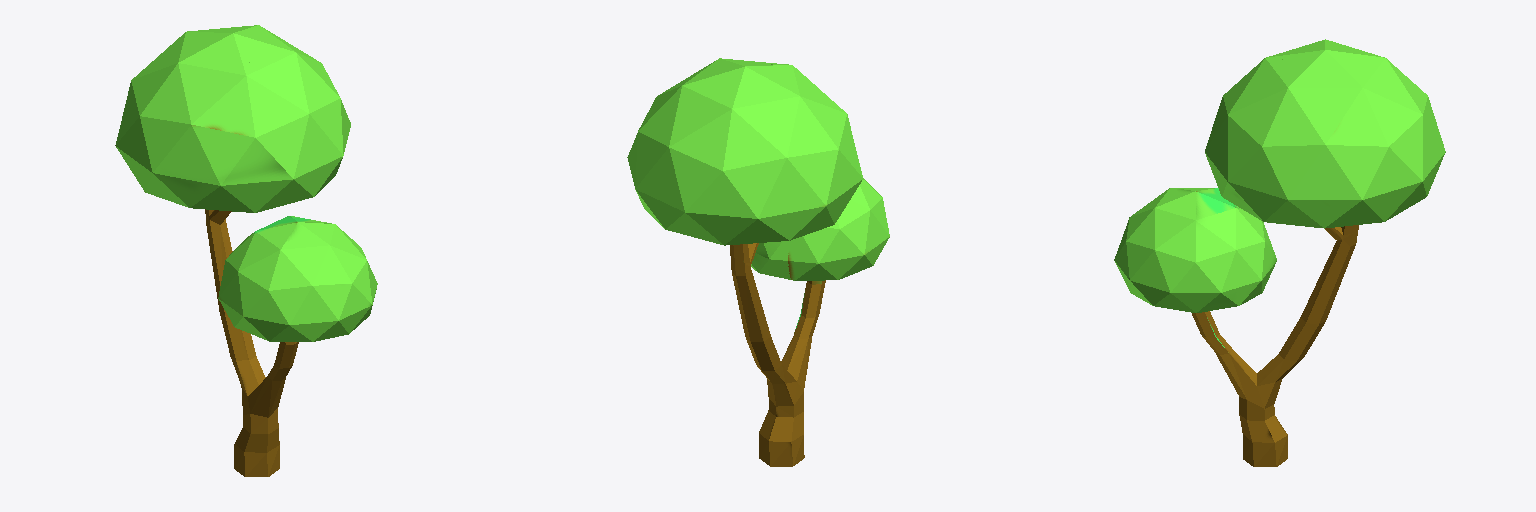
The picture shows the model from 3 angles: view 1: azimuth 30°, elevation 25°; view 2: azimuth 150°, elevation 25°; view 3: azimuth 270°, elevation 25°; orthographic projection.
Visible parts, largest first — view 1: Tree1; view 2: Tree1; view 3: Tree1.
Boxes of the visible parts, x1,y1,x2,y2 form: Tree1: [115, 25, 377, 476]; Tree1: [627, 58, 889, 466]; Tree1: [1114, 39, 1445, 466].
Bounding box in the file's own units: 2.07 × 4.1 × 2.99.
1 materials, 1 textured.